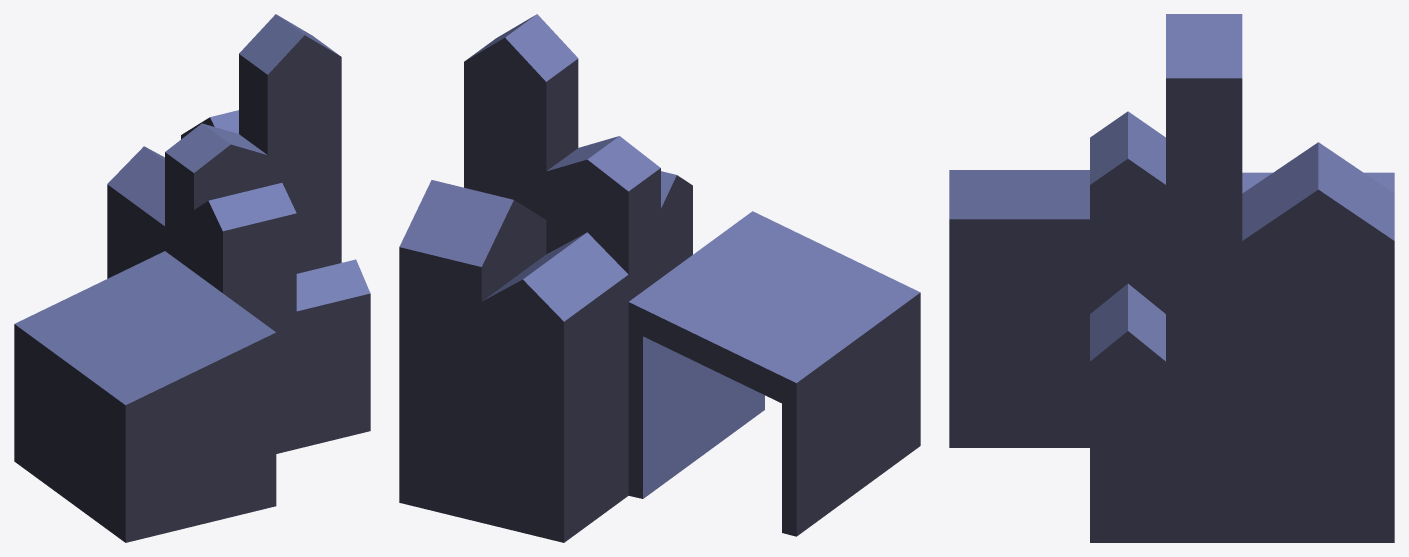
File: _farm.glb
The picture shows the model from 3 angles, left to right: view 1: azimuth 30°, elevation 25°; view 2: azimuth 150°, elevation 25°; view 3: azimuth 270°, elevation 25°; orthographic projection. The views are drawn at different scales.
Parts seen in each view (by area): view 1: Cube.001; view 2: Cube.001; view 3: Cube.001.
Part boxes in pixels (bbox=[...]): Cube.001: bbox=[14, 14, 370, 542]; Cube.001: bbox=[399, 14, 920, 542]; Cube.001: bbox=[949, 14, 1394, 542].
Size of the model in its own units: 1.81 by 2.22 by 1.78.
